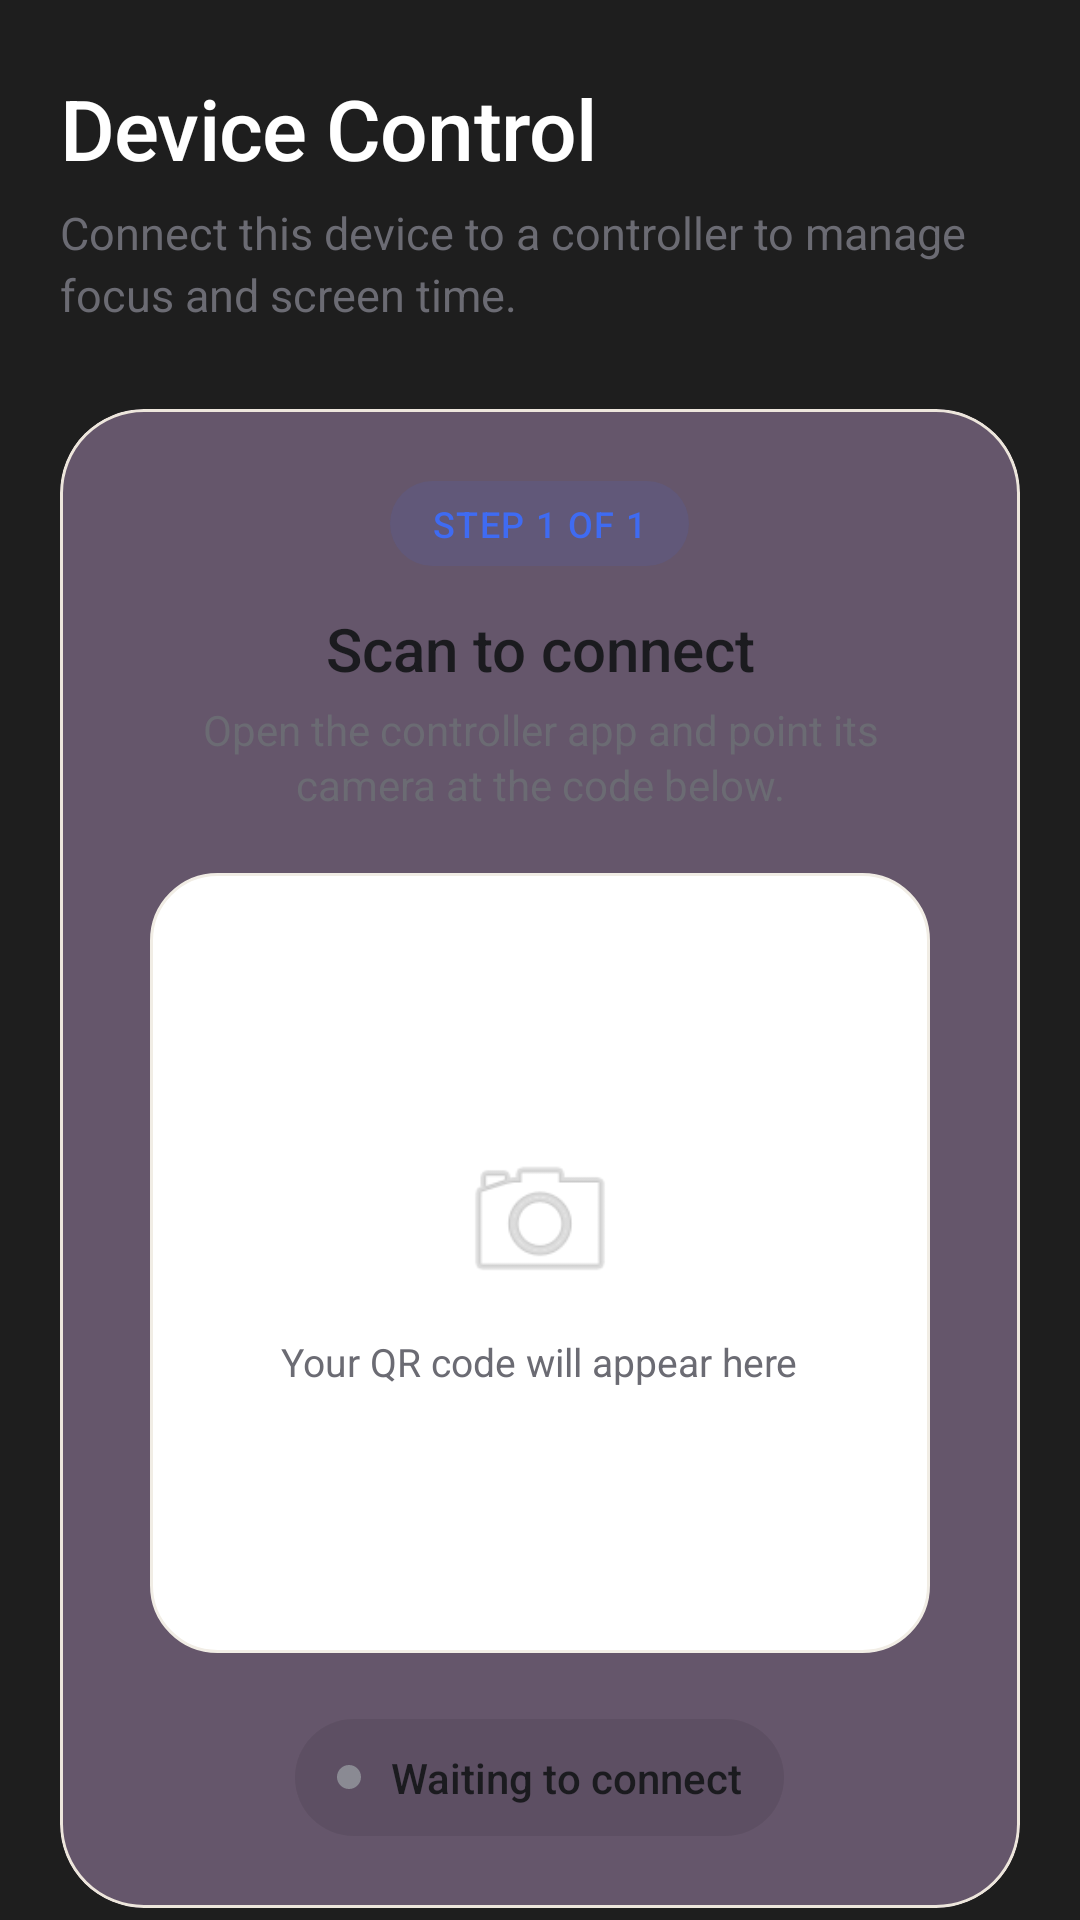

Screen size 1080*1920. Icon name, then its box in pixels as {"x1": x1, "y1": y1, "x2": x2, "y2": y2}:
camera: {"x1": 476, "y1": 1168, "x2": 604, "y2": 1269}
